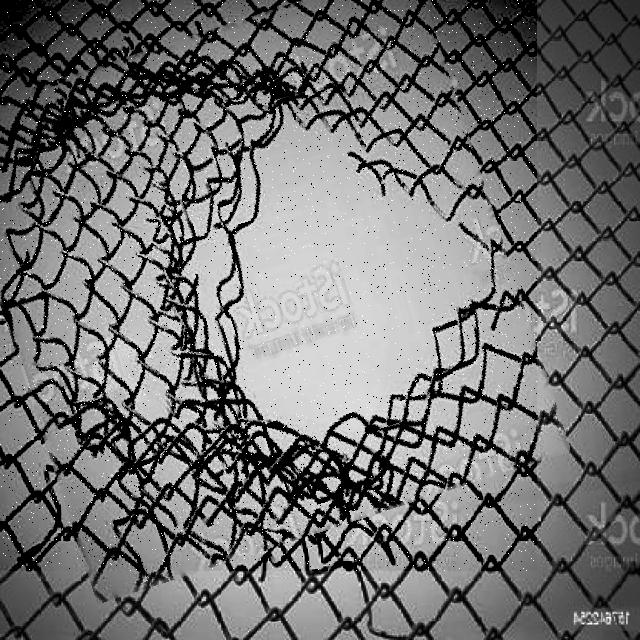anomaly-fence: (0, 0, 537, 571)
